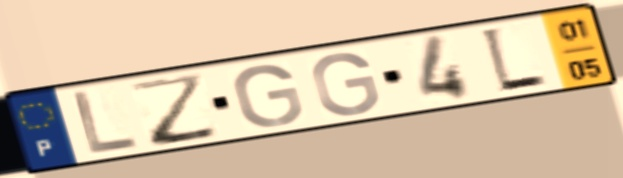4: (413, 31, 473, 105)
G: (308, 50, 384, 118), (230, 62, 307, 129)
L: (476, 25, 552, 97), (69, 88, 142, 157)
Z: (126, 70, 224, 149)
